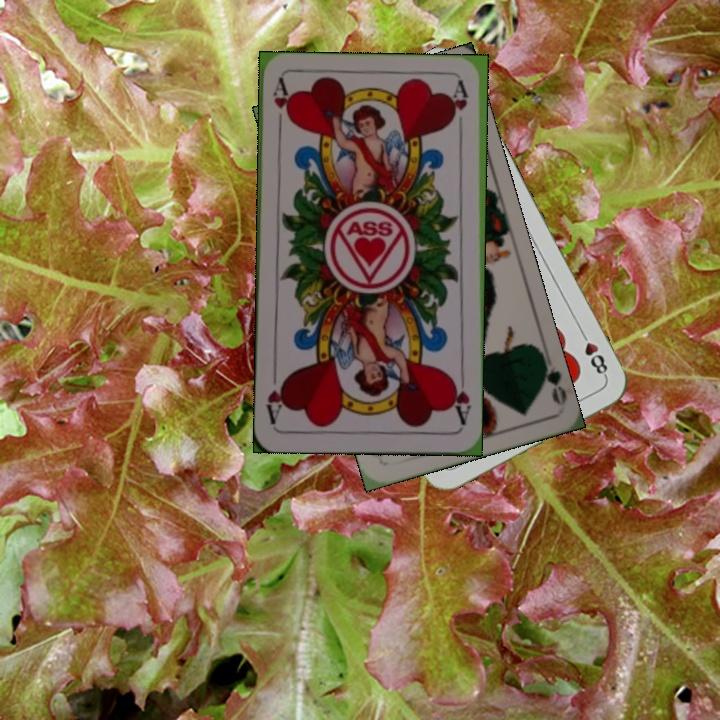GO: (537, 350, 569, 407)
H8: (575, 326, 611, 380)
HA: (447, 370, 473, 428), (269, 77, 293, 136)
